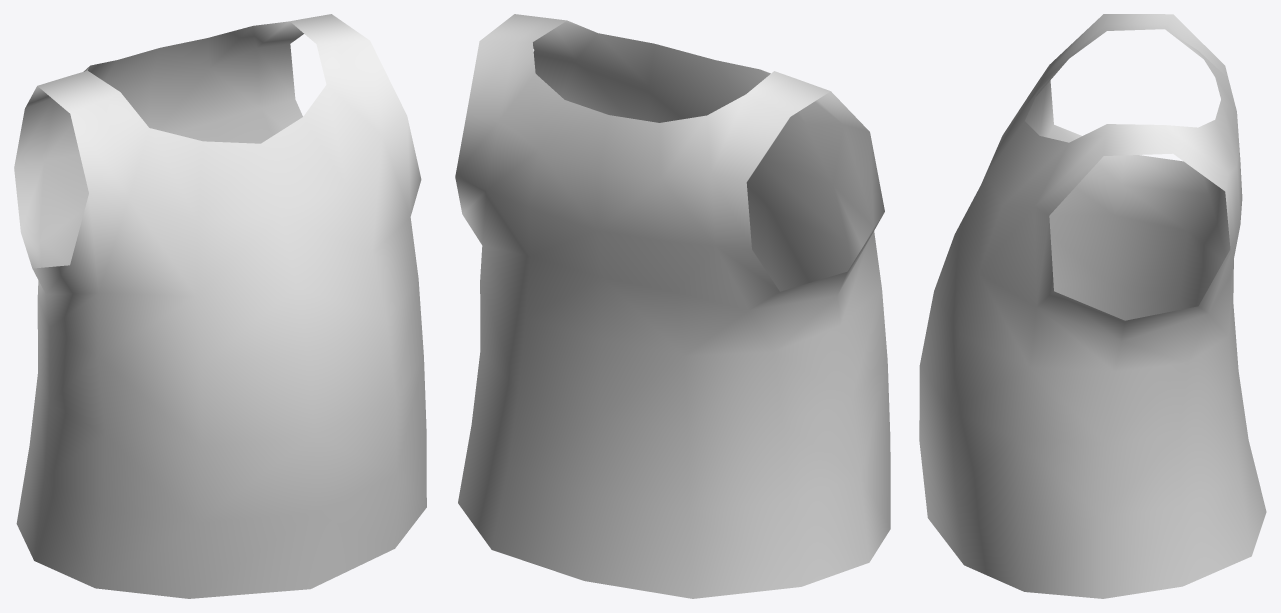
Rendered from Outerwear_White_007.glb.
The picture shows the model from 3 angles, left to right: view 1: azimuth 30°, elevation 25°; view 2: azimuth 150°, elevation 25°; view 3: azimuth 270°, elevation 25°; orthographic projection. The views are drawn at different scales.
Visible parts, largest first — view 1: Outerwear_White_007; view 2: Outerwear_White_007; view 3: Outerwear_White_007.
Part boxes in pixels (x1,y1,x2,y2): Outerwear_White_007: [14, 14, 426, 598]; Outerwear_White_007: [455, 14, 890, 598]; Outerwear_White_007: [919, 14, 1266, 598].
Bounding box in the file's own units: 0.4413 × 0.5137 × 0.3665.
Materials: 1 (1 with a texture image).
